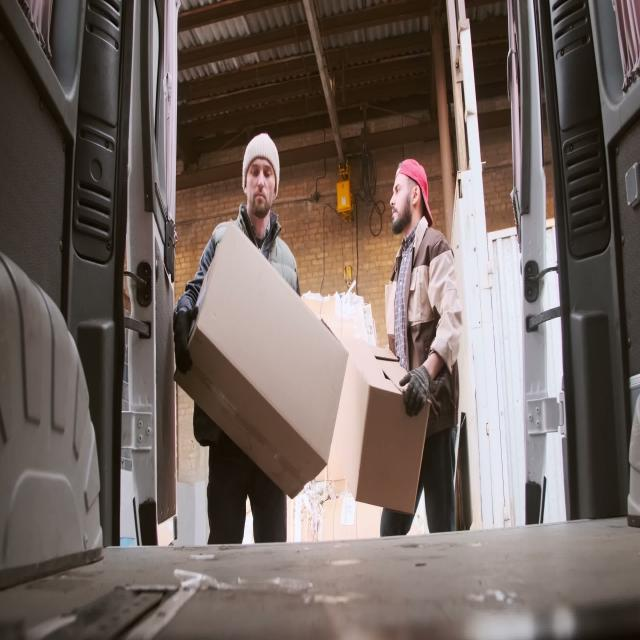counting-the-number-of-boxes: (174, 219, 349, 499), (332, 338, 430, 515)
